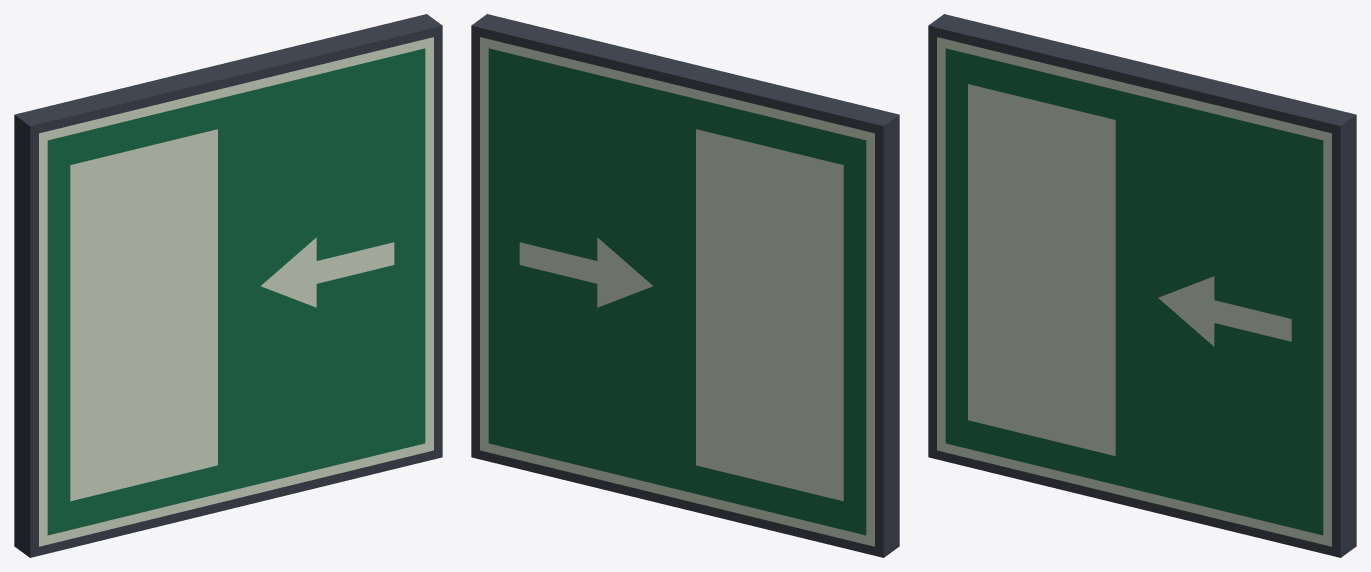
The model's file is ExitSign.obj.
The picture shows the model from 3 angles, left to right: view 1: azimuth 30°, elevation 25°; view 2: azimuth 150°, elevation 25°; view 3: azimuth 330°, elevation 25°; orthographic projection.
Parts seen in each view (by area): view 1: ExitSign; view 2: ExitSign; view 3: ExitSign.
Part boxes in pixels (box(x1,y1,x2,y2)): ExitSign: box(14, 14, 442, 557); ExitSign: box(471, 14, 899, 557); ExitSign: box(928, 14, 1356, 557).
Bounding box in the file's own units: 3.3 × 3.3 × 0.228.
